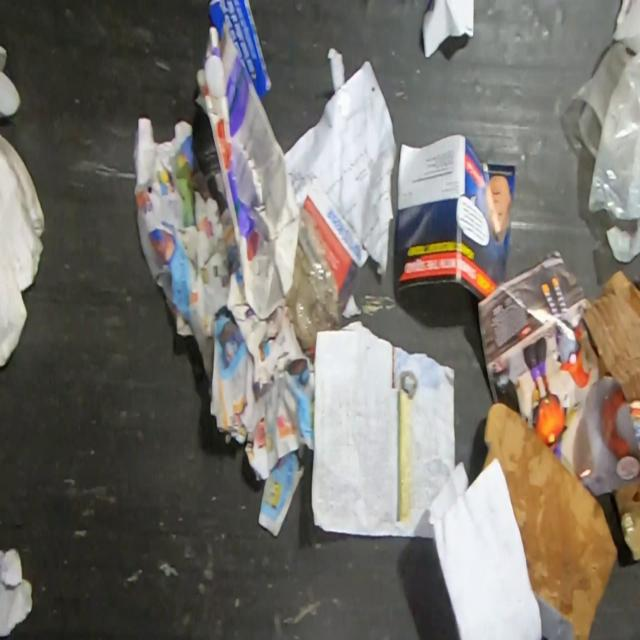cardboard: (479, 400, 620, 640), (579, 268, 640, 403), (612, 479, 640, 561)
soft_plastic: (568, 40, 640, 264), (284, 205, 343, 351)
